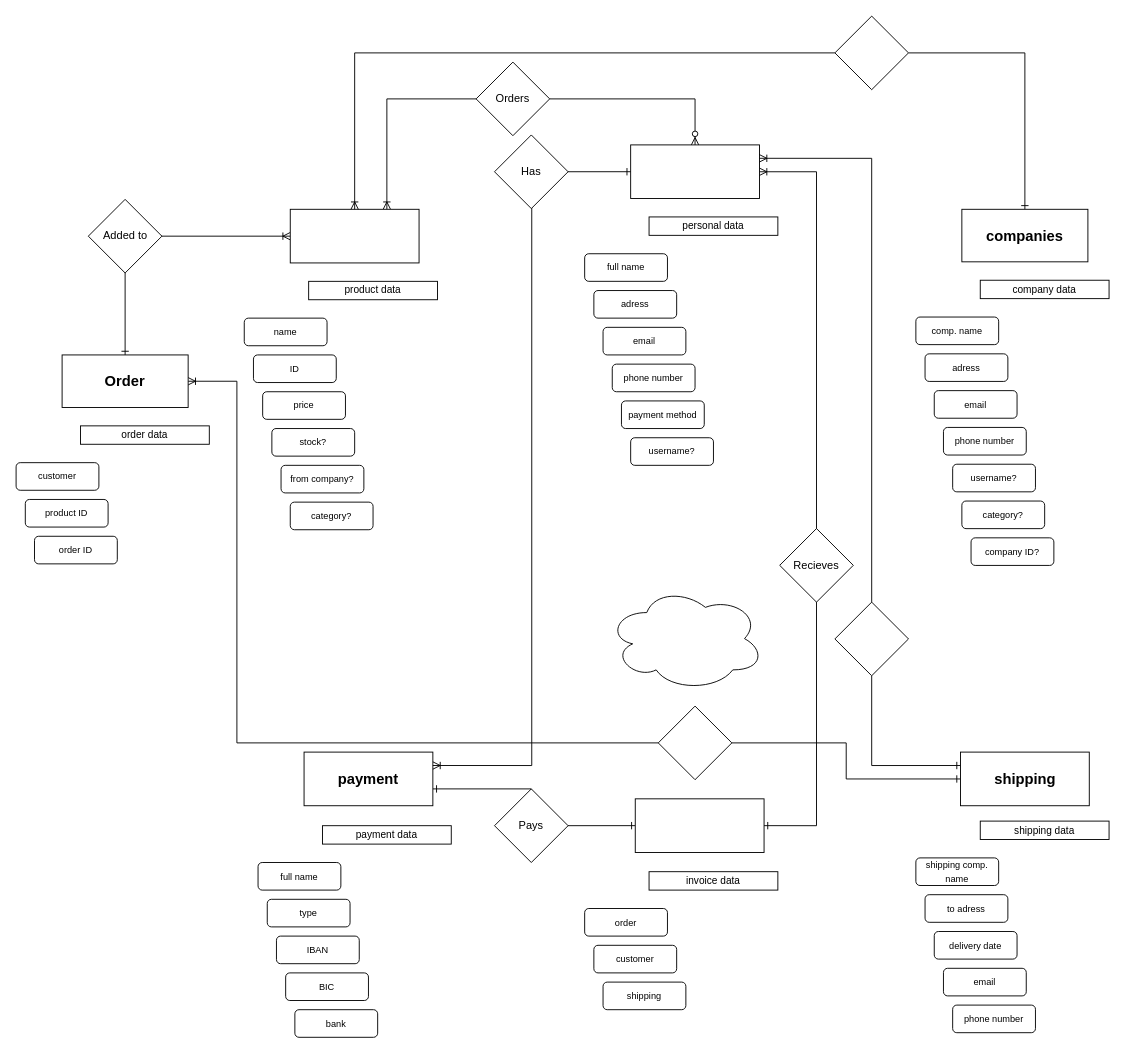
The diagram is 1125 pixels wide and 1053 high, and some of its shapes have lost their labels. The box of each missing label's shape, as (x1, y1, x2, y2) in pixels:
customers: (630, 144, 759, 199)
Famazon e-commerce site: (607, 586, 764, 691)
Gets: (657, 705, 732, 780)
invoice: (634, 798, 764, 852)
Produces: (834, 15, 908, 90)
products: (289, 208, 419, 263)
Ships Product: (834, 601, 908, 676)
